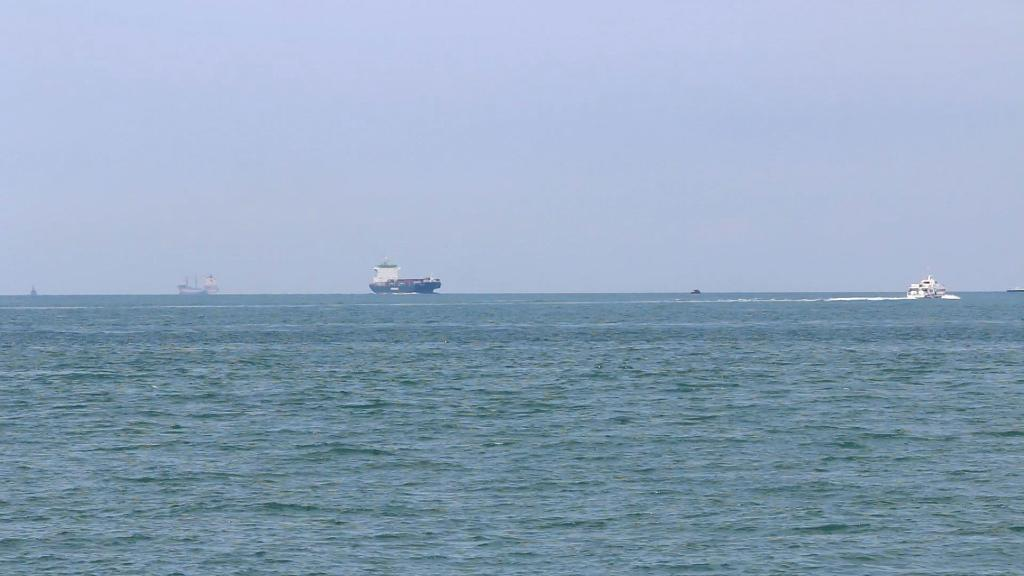PassengerShip: (901, 270, 961, 302)
